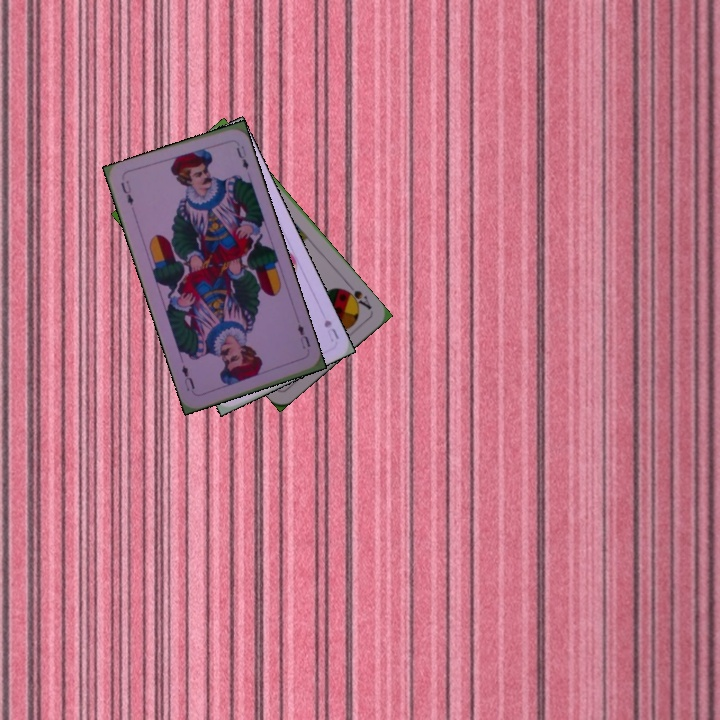EU: (293, 320, 313, 351), (117, 176, 136, 208)
SA: (339, 279, 374, 312)
SU: (320, 316, 342, 344)
